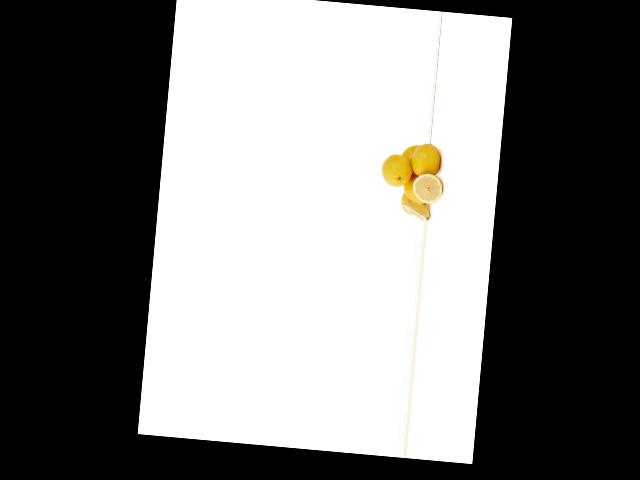lemon: (405, 142, 444, 180)
